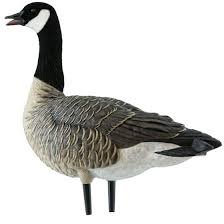goose: (2, 1, 222, 224)
